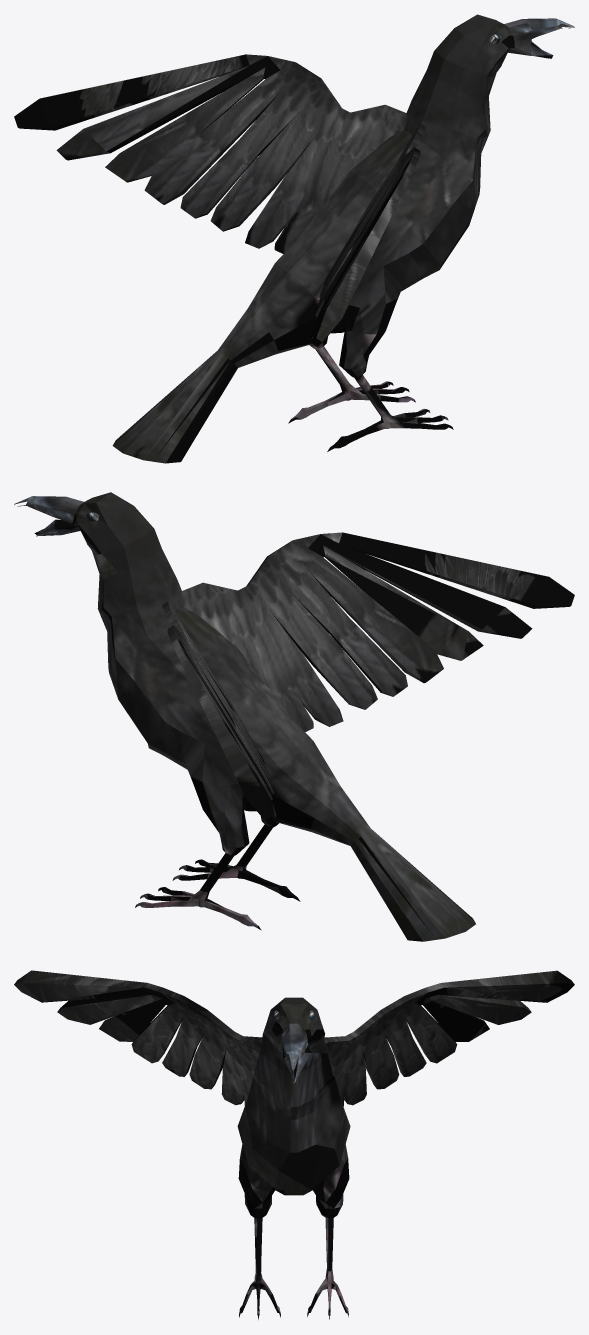
File: crowTextureAnim_000010.obj
3 renders of one model, top to bottom at view 1: azimuth 30°, elevation 25°; view 2: azimuth 150°, elevation 25°; view 3: azimuth 270°, elevation 25°, orthographic. The views are drawn at different scales.
Visible parts, largest first — view 1: Cylinder.001, Cylinder.002, Cylinder.003; view 2: Cylinder.001, Cylinder.003, Cylinder.002; view 3: Cylinder.001, Cylinder.002, Cylinder.003.
Boxes of the visible parts, box(x1,y1,x2,y2) form: Cylinder.001: box(112, 14, 574, 463); Cylinder.002: box(14, 54, 407, 253); Cylinder.003: box(310, 123, 425, 346); Cylinder.001: box(14, 492, 475, 941); Cylinder.003: box(181, 532, 574, 732); Cylinder.002: box(162, 602, 277, 825); Cylinder.001: box(237, 997, 350, 1319); Cylinder.002: box(310, 970, 574, 1106); Cylinder.003: box(14, 970, 262, 1105).
Bounding box in the file's own units: 5.22 × 4.1 × 6.07.
